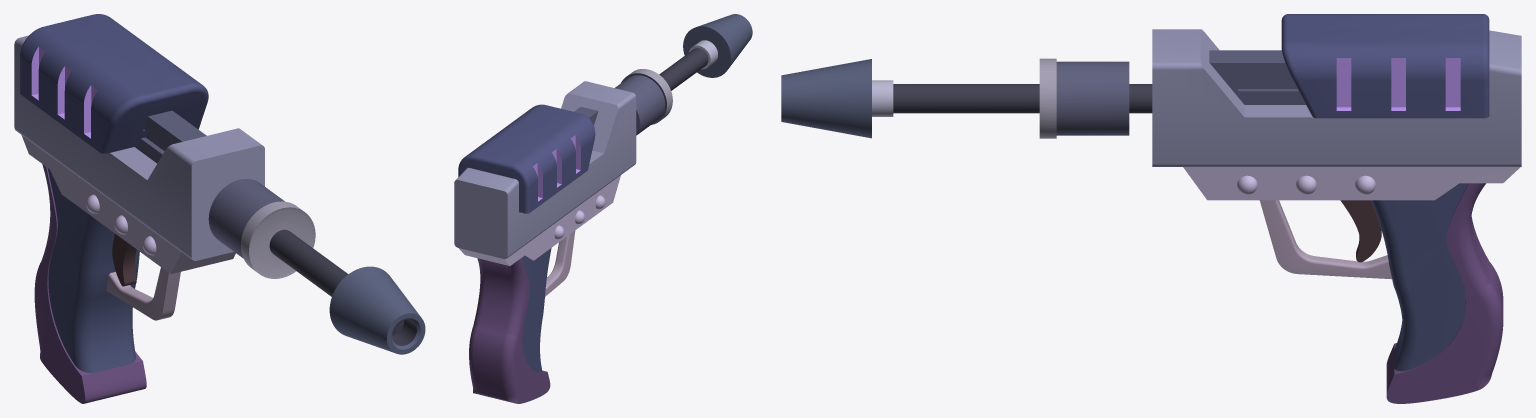
File: RickGunMain.fbx
3 renders of one model, left to right at view 1: azimuth 30°, elevation 25°; view 2: azimuth 150°, elevation 25°; view 3: azimuth 270°, elevation 25°, orthographic. The views are drawn at different scales.
Parts seen in each view (by area): view 1: Pistol Grip Final, Slide Left Final; view 2: Pistol Grip Final, Slide Left Final; view 3: Pistol Grip Final, Slide Left Final.
Boxes of the visible parts, box(x1,y1,x2,y2) form: Pistol Grip Final: box(14, 35, 425, 403); Slide Left Final: box(20, 14, 208, 153); Pistol Grip Final: box(454, 14, 752, 403); Slide Left Final: box(458, 104, 595, 213); Pistol Grip Final: box(781, 29, 1521, 403); Slide Left Final: box(1281, 14, 1489, 118).
Bounding box in the file's own units: 376 × 1260 × 2355.
